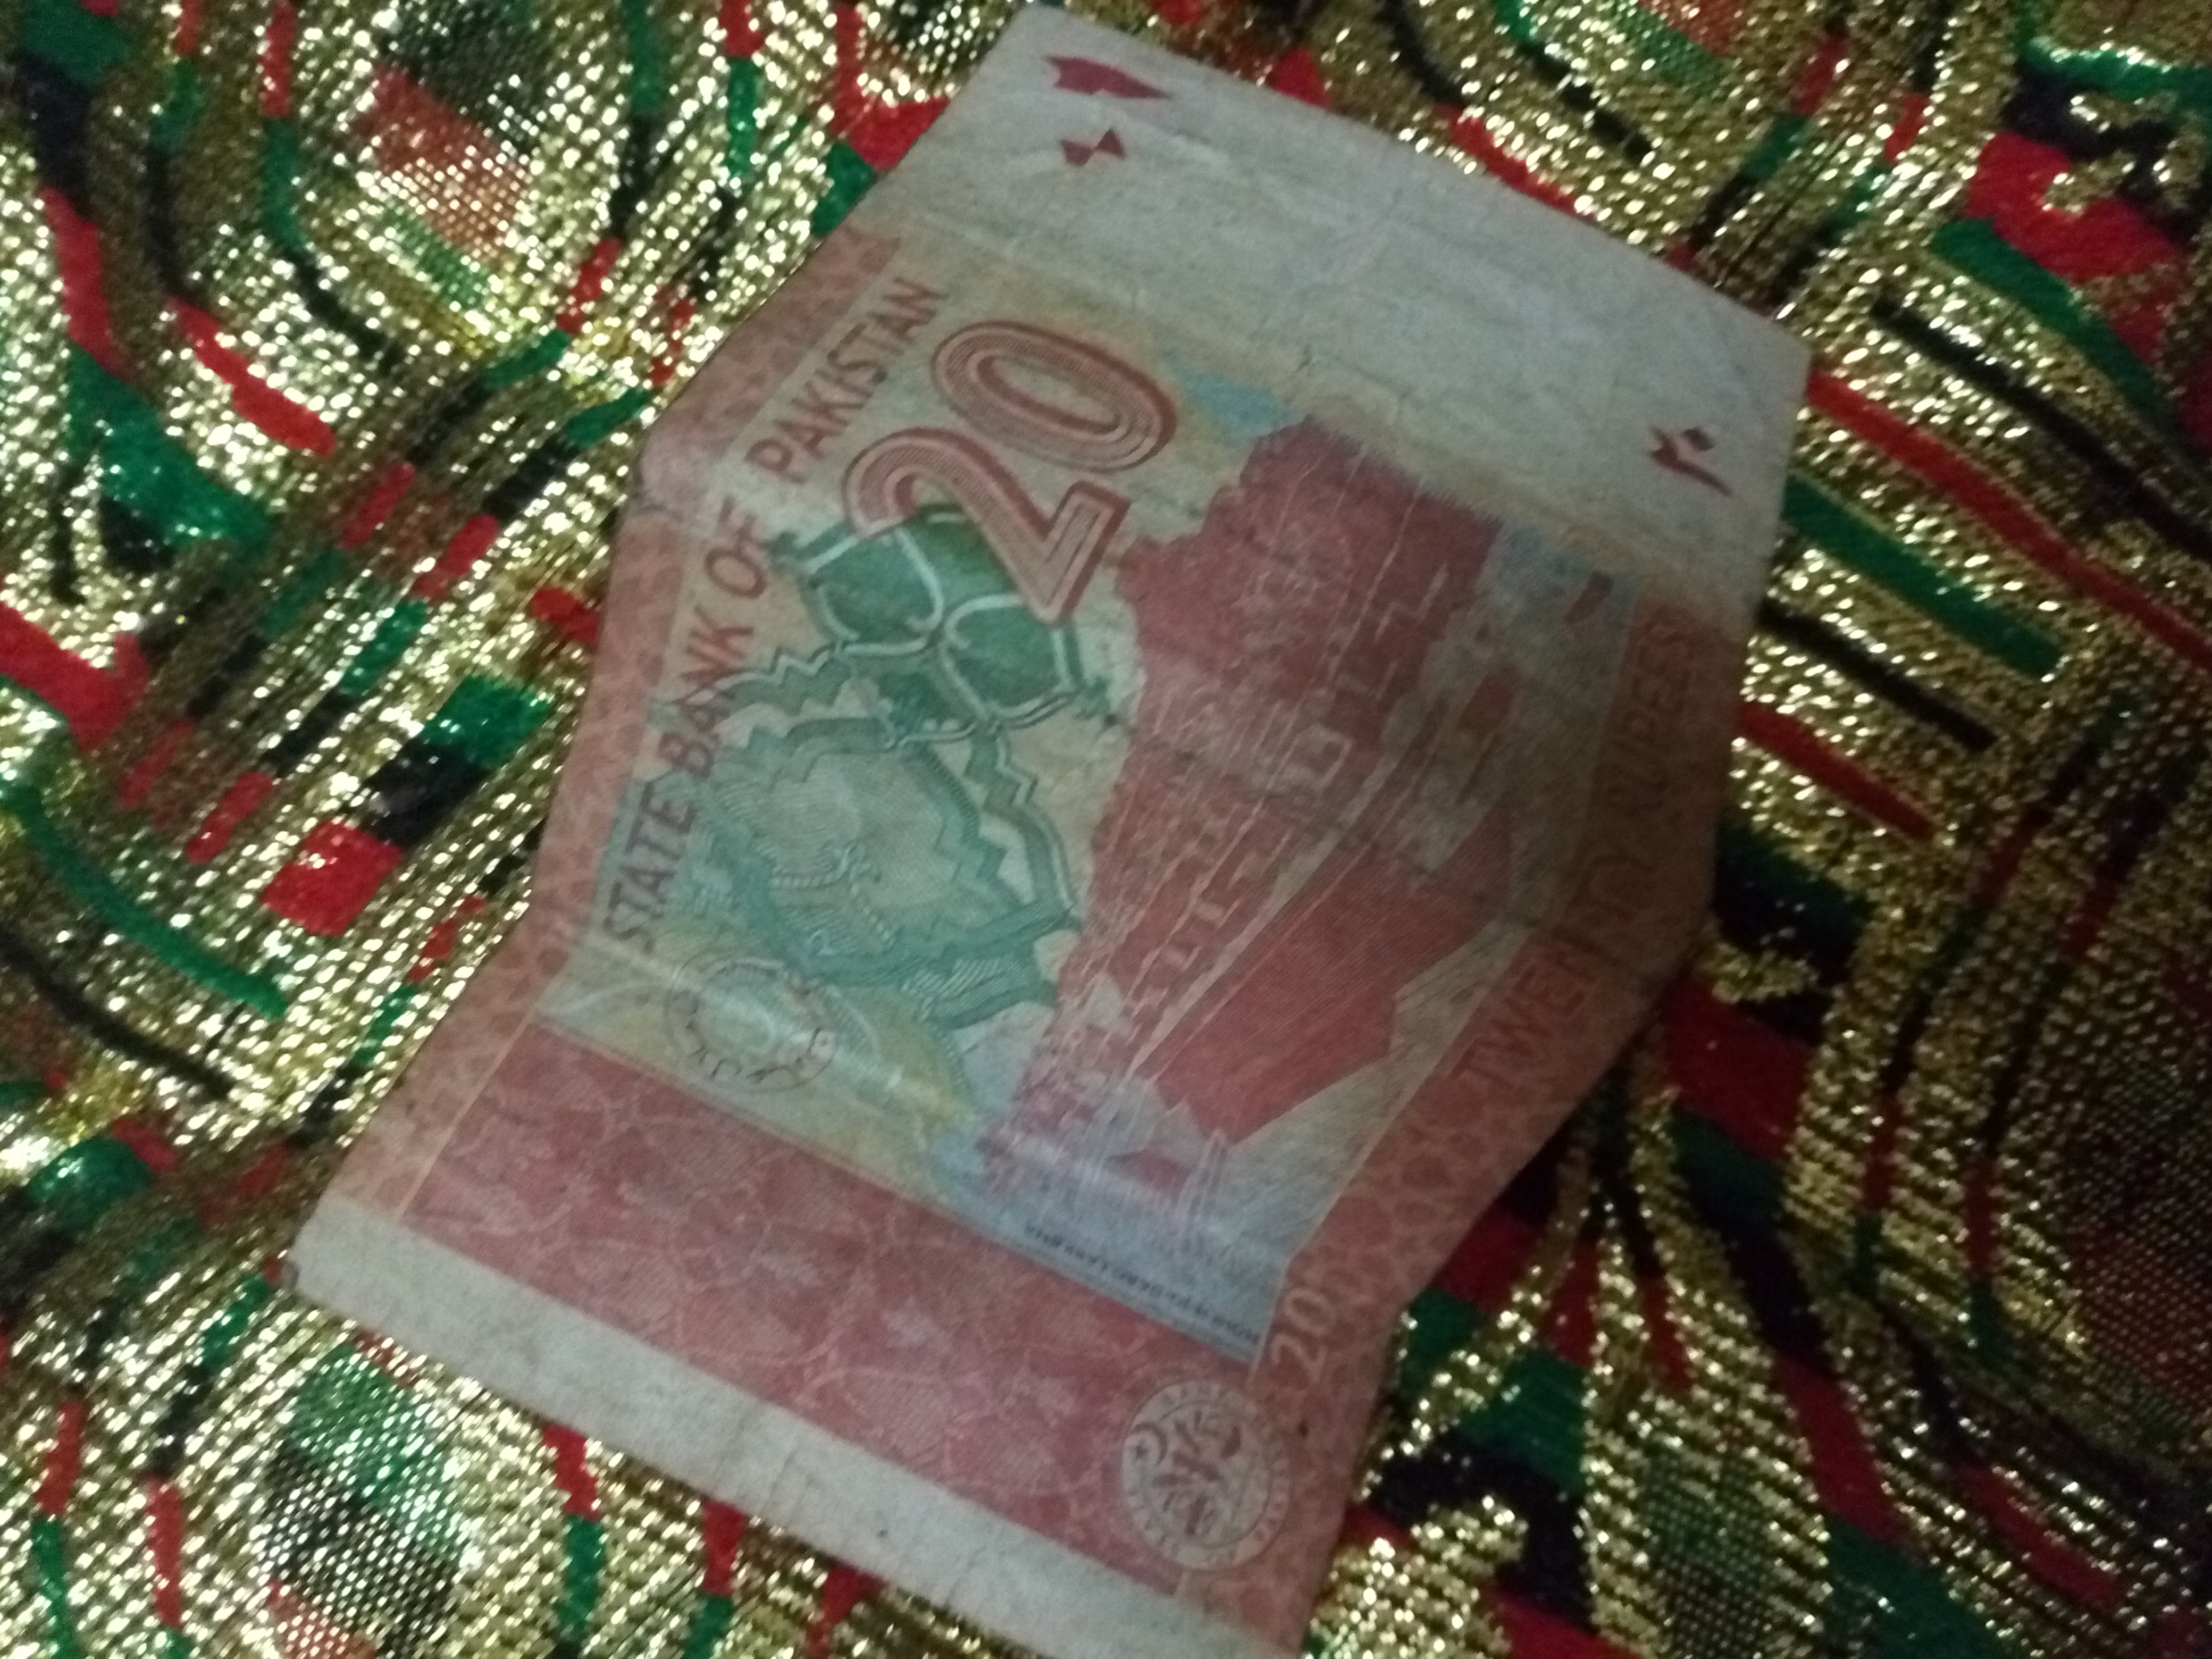20 rupee: (263, 45, 1843, 1603)
